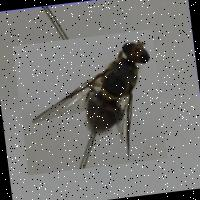Oriental-fruit-fly: (12, 29, 166, 176)
